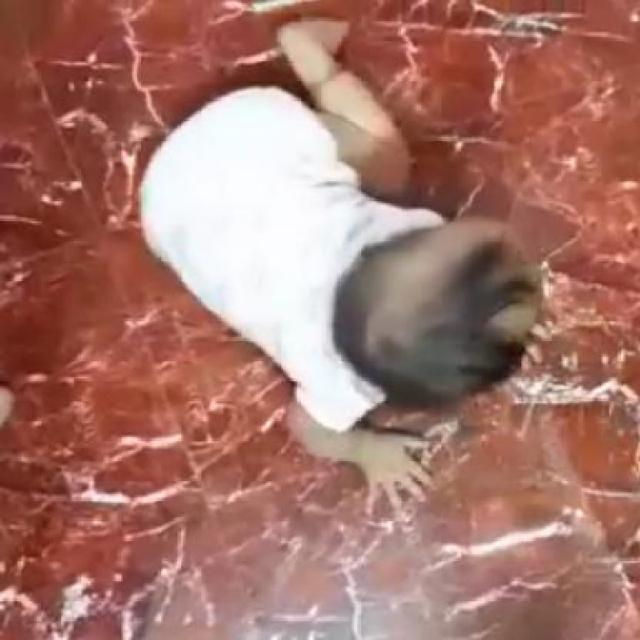baby: (137, 21, 540, 522)
